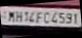character: (65, 12, 73, 24), (51, 11, 58, 24), (58, 11, 65, 24), (15, 11, 22, 22), (36, 11, 42, 23), (73, 13, 78, 24), (23, 11, 28, 21)
